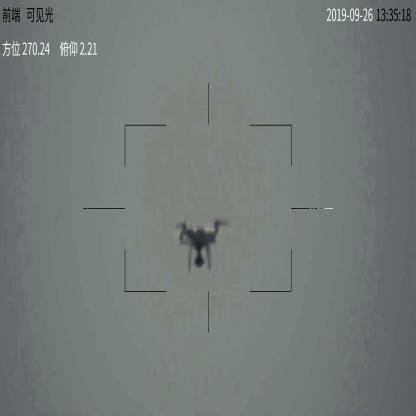uav: (175, 219, 230, 274)
